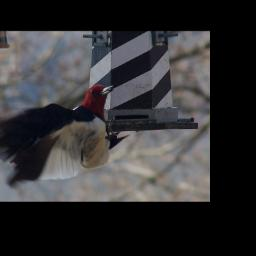Woodpecker: (0, 79, 126, 184)
